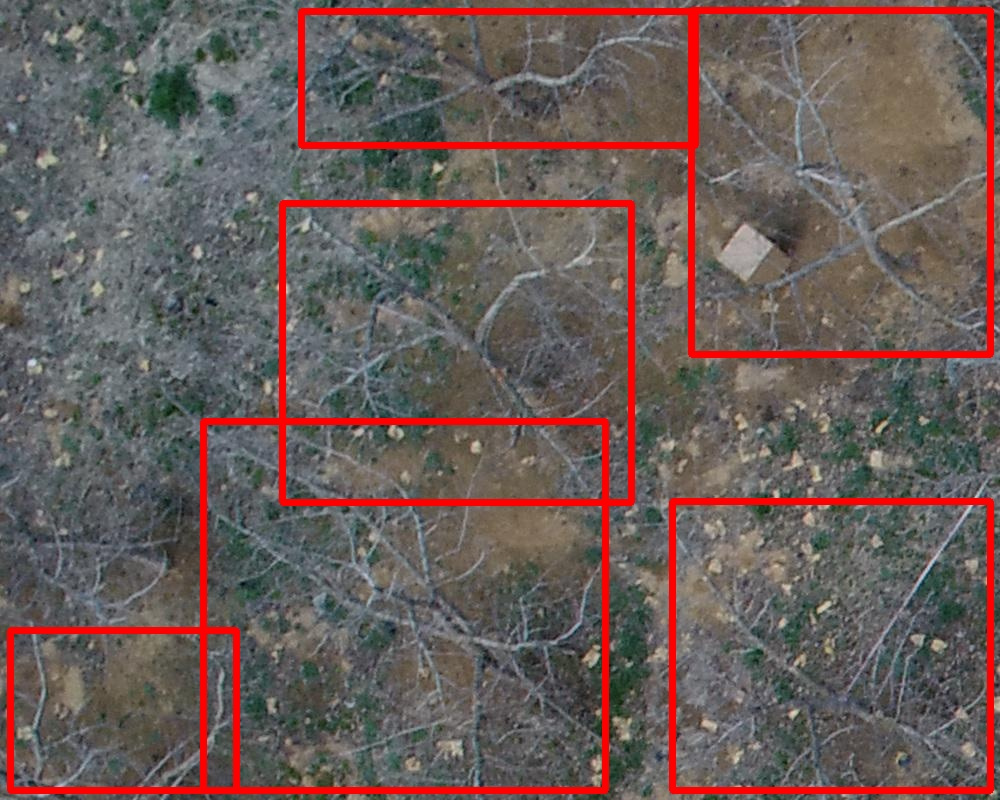apple: (203, 421, 605, 790), (282, 203, 631, 502), (691, 10, 990, 354), (672, 501, 990, 790), (301, 11, 695, 145), (10, 630, 236, 790)
